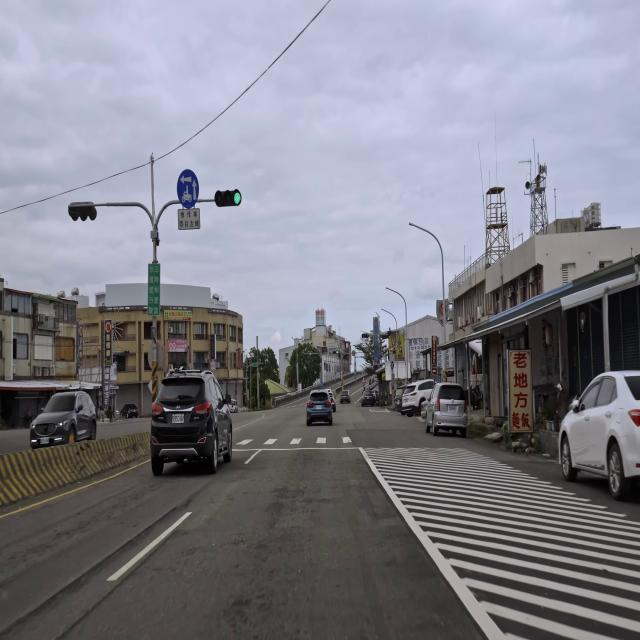green light: (213, 190, 242, 208)
